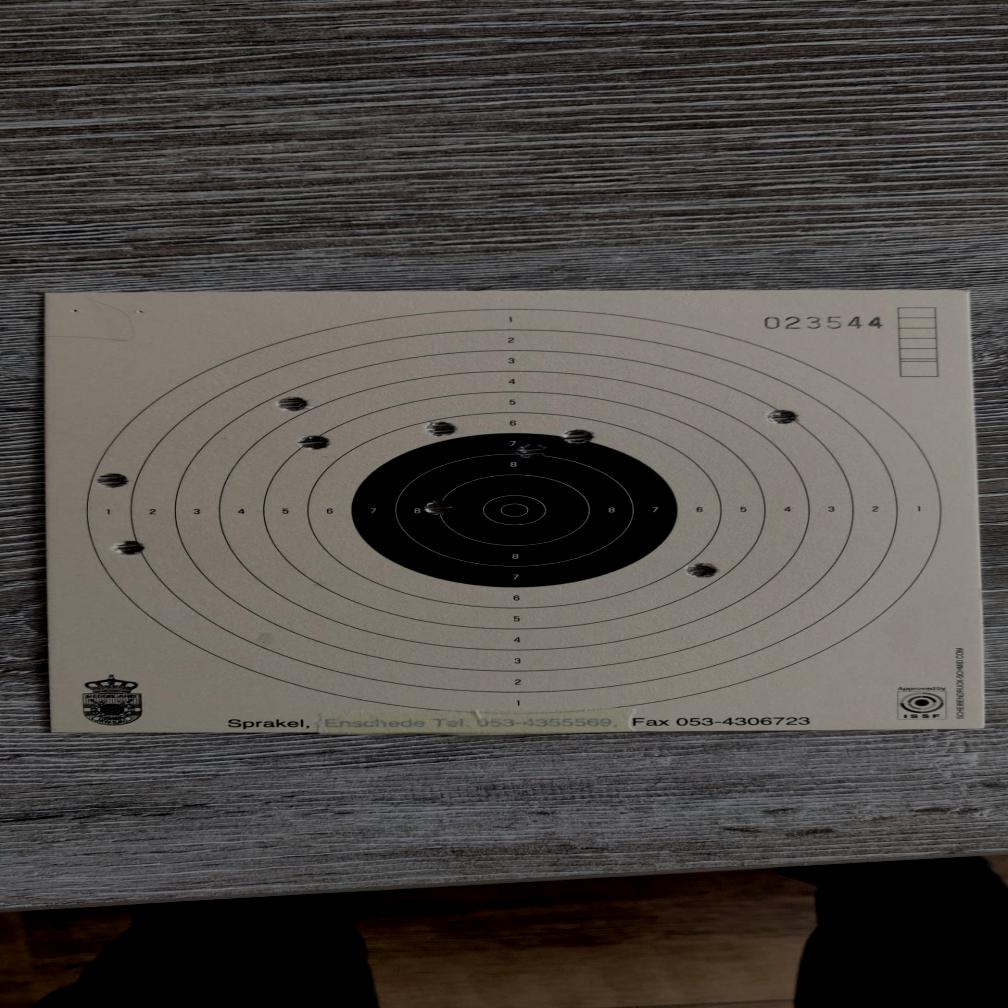1: (98, 471, 130, 489)
2: (112, 539, 150, 556)
3: (274, 394, 313, 414), (766, 409, 801, 425)
5: (683, 561, 722, 579), (297, 434, 331, 450)
6: (424, 420, 462, 438)
7: (561, 427, 596, 447)
8: (516, 442, 550, 460)
9: (422, 497, 458, 517)
Target: (82, 305, 945, 716)
black_contour: (352, 433, 680, 587)
